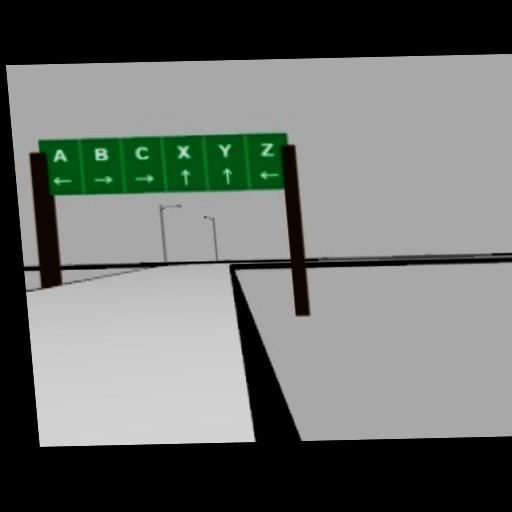A: (50, 148, 68, 164)
B: (93, 145, 109, 161)
C: (133, 144, 150, 160)
Left: (257, 169, 281, 180), (51, 176, 73, 186)
Right: (92, 175, 114, 185), (132, 174, 154, 184)
Straight: (221, 166, 233, 185), (179, 168, 191, 186)
X: (175, 144, 191, 159)
Y: (216, 141, 233, 157)
Z: (258, 142, 275, 157)
